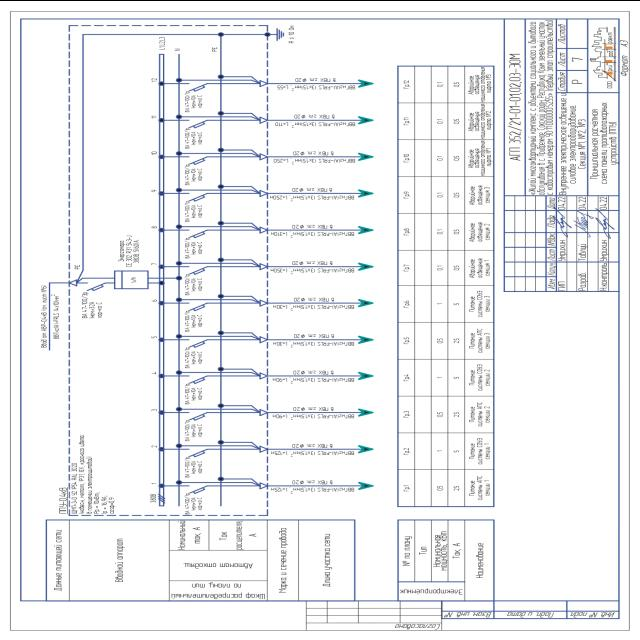-: (70, 433, 86, 513), (116, 233, 142, 267), (78, 290, 105, 318), (183, 418, 203, 442), (183, 198, 203, 222), (183, 273, 203, 296), (183, 235, 203, 258), (182, 492, 202, 515), (183, 126, 203, 149), (184, 309, 204, 332), (184, 162, 204, 185), (184, 89, 204, 112), (184, 456, 204, 478), (184, 346, 204, 368), (184, 382, 204, 404)
QF: (82, 280, 108, 290), (185, 446, 209, 456), (184, 82, 208, 92), (185, 118, 209, 128), (186, 410, 210, 420), (186, 154, 210, 164), (185, 338, 209, 348), (186, 374, 210, 384), (184, 192, 208, 202), (184, 228, 208, 238), (186, 300, 210, 310), (184, 484, 208, 494), (184, 264, 208, 274)
WH: (113, 268, 151, 288)
